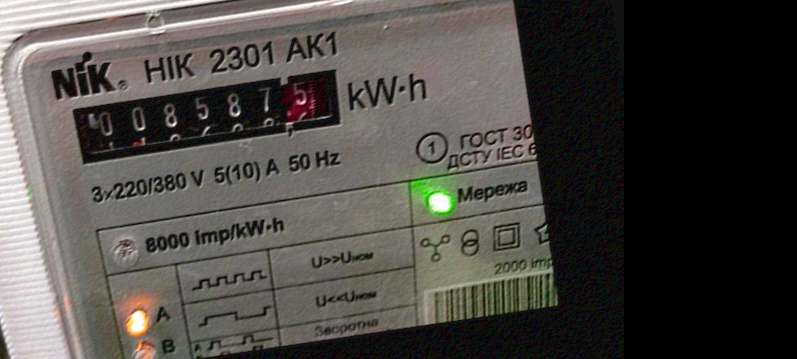0: (95, 108, 116, 139), (129, 104, 150, 134)
5: (291, 79, 312, 110), (192, 94, 213, 124)
7: (256, 83, 277, 116)
8: (224, 89, 245, 121), (161, 101, 181, 131)
screen: (53, 53, 364, 179)
